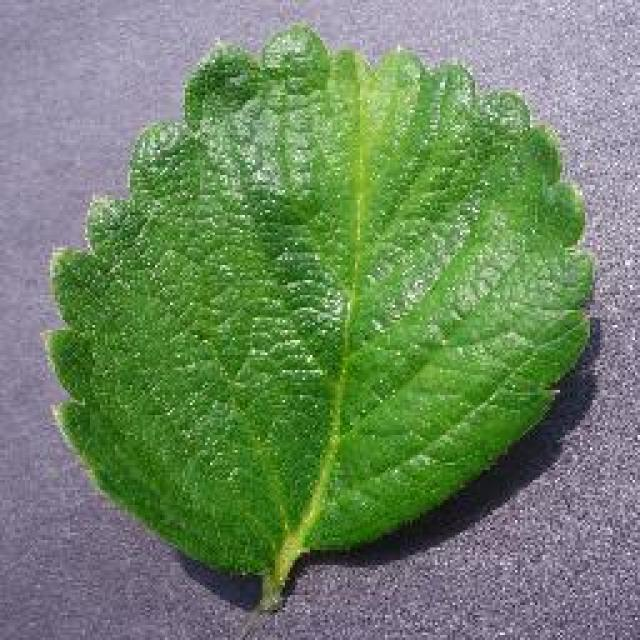Strawberry___healthy: (33, 2, 605, 630)
